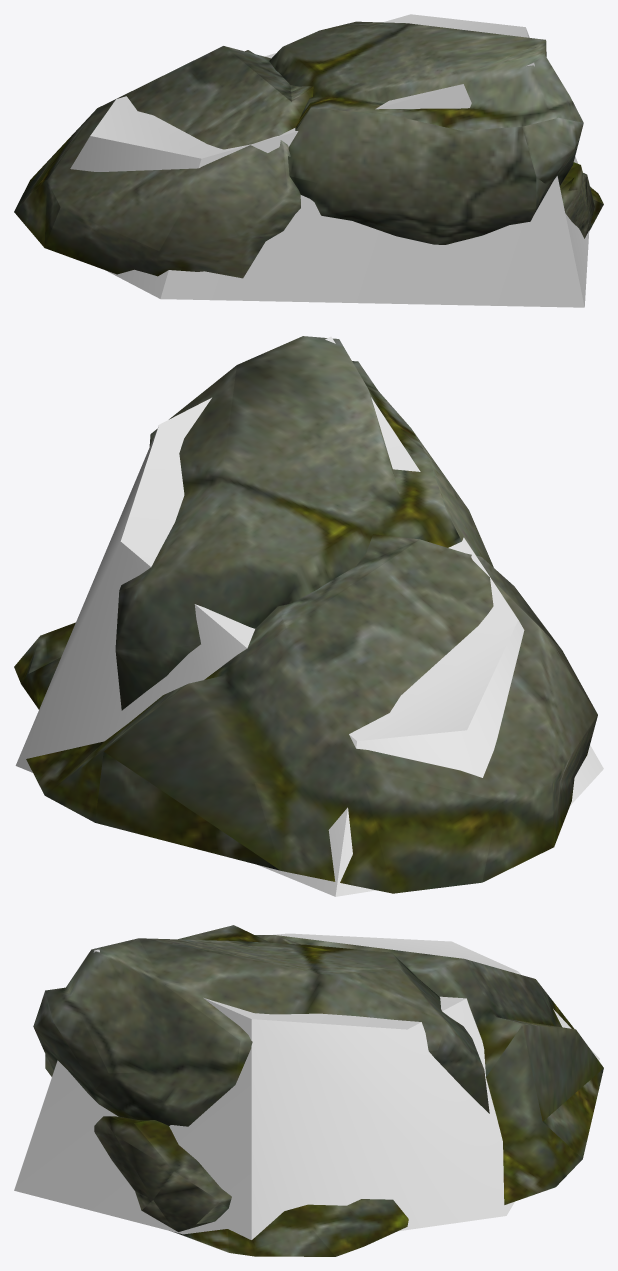
The model's file is shitou_01.FBX.
3 renders of one model, top to bottom at view 1: azimuth 30°, elevation 25°; view 2: azimuth 150°, elevation 25°; view 3: azimuth 270°, elevation 25°, orthographic. The views are drawn at different scales.
Visible parts, largest first — view 1: shitou_01, shitou_01-col; view 2: shitou_01, shitou_01-col; view 3: shitou_01, shitou_01-col.
Boxes of the visible parts, x1,y1,x2,y2 form: shitou_01: (14, 21, 603, 278); shitou_01-col: (70, 14, 589, 307); shitou_01: (14, 336, 597, 893); shitou_01-col: (15, 336, 603, 896); shitou_01: (33, 925, 603, 1256); shitou_01-col: (14, 933, 599, 1239).
Size of the model in its own units: 0.1403 by 0.0623 by 0.1408.
